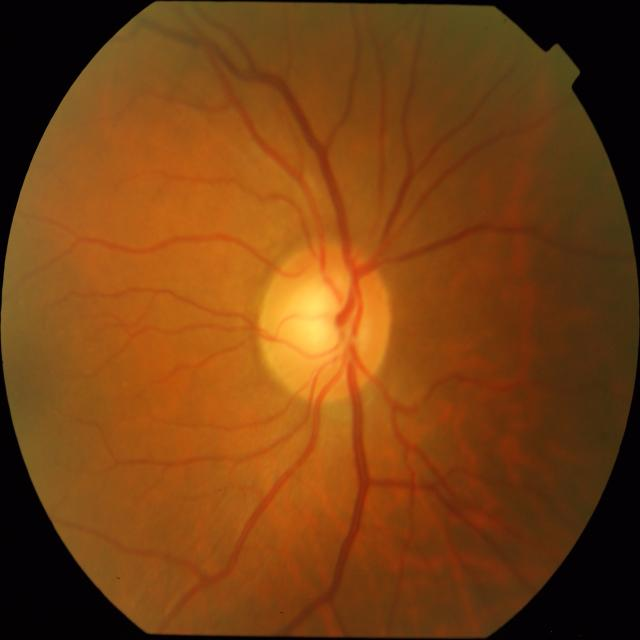OC: (292, 272, 368, 360)
OD: (257, 241, 393, 403)
